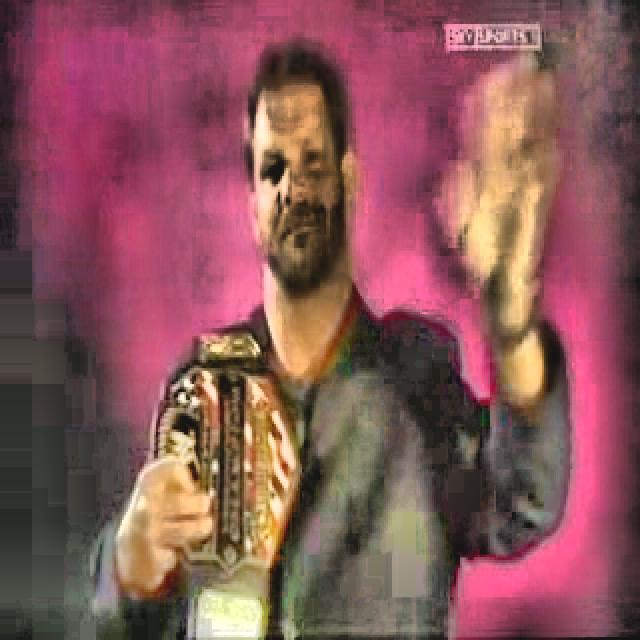L: (92, 41, 570, 637)
